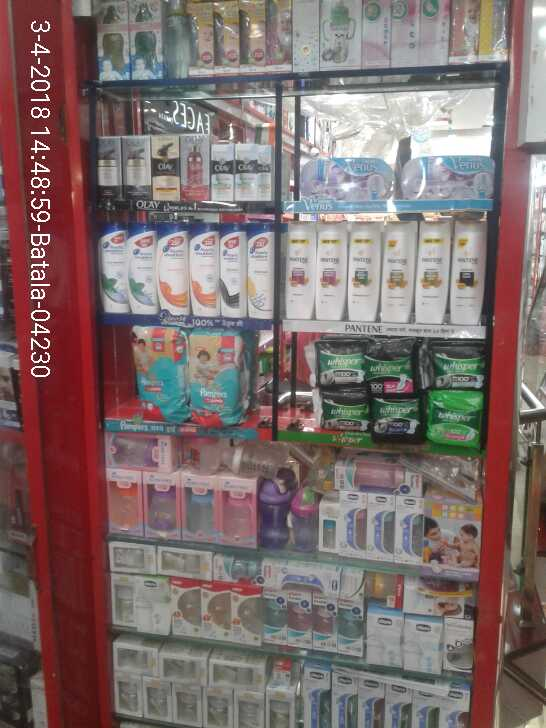venus: (404, 154, 494, 197), (303, 157, 392, 200)
